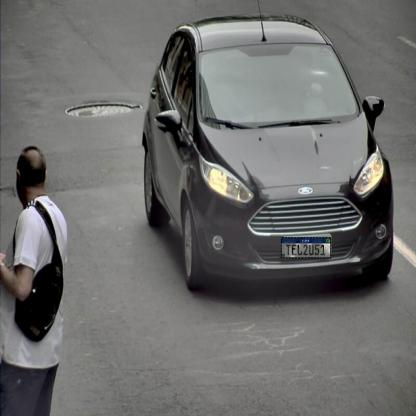PlacaM: (281, 237, 331, 259)
